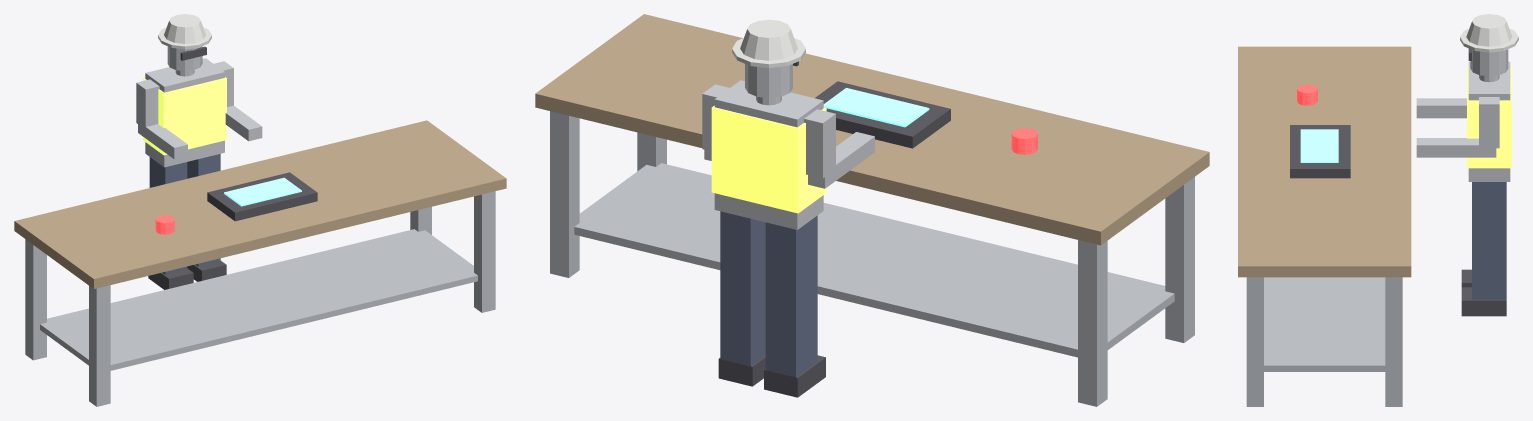
File: wing-apprentice-s.glb
3 views of the same model, side by side, from view 1: azimuth 30°, elevation 25°; view 2: azimuth 150°, elevation 25°; view 3: azimuth 270°, elevation 25° (orthographic). The views are drawn at different scales.
Visible parts, largest first — view 1: Apprentice station; view 2: Apprentice station; view 3: Apprentice station.
Boxes of the visible parts, x1,y1,x2,y2 form: Apprentice station: (14,14,506,406); Apprentice station: (535,14,1209,406); Apprentice station: (1238,14,1518,406).
Bounding box in the file's own units: 3 × 1.78 × 1.62.
